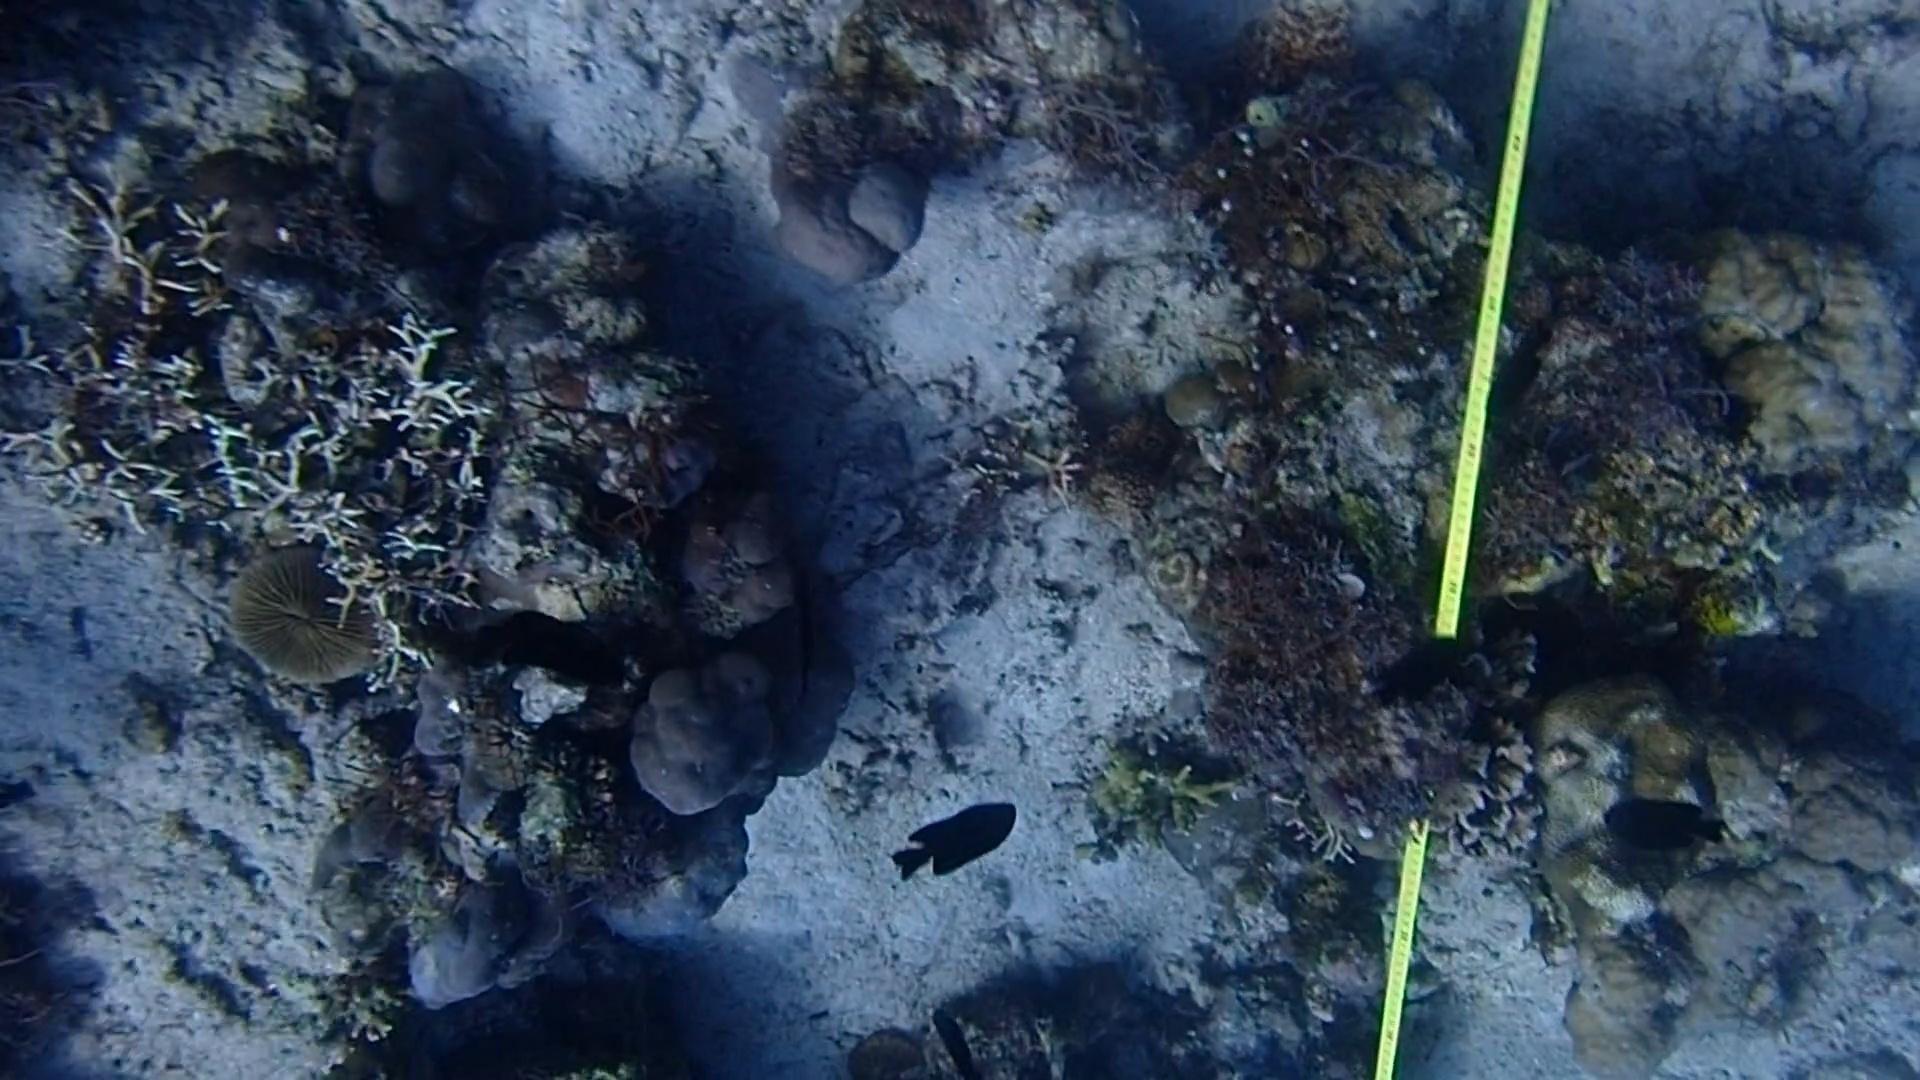Dark Fish: (885, 766, 1043, 907), (476, 593, 622, 704), (1596, 777, 1737, 865), (1470, 320, 1575, 425), (781, 583, 839, 709), (913, 1004, 1004, 1080)
